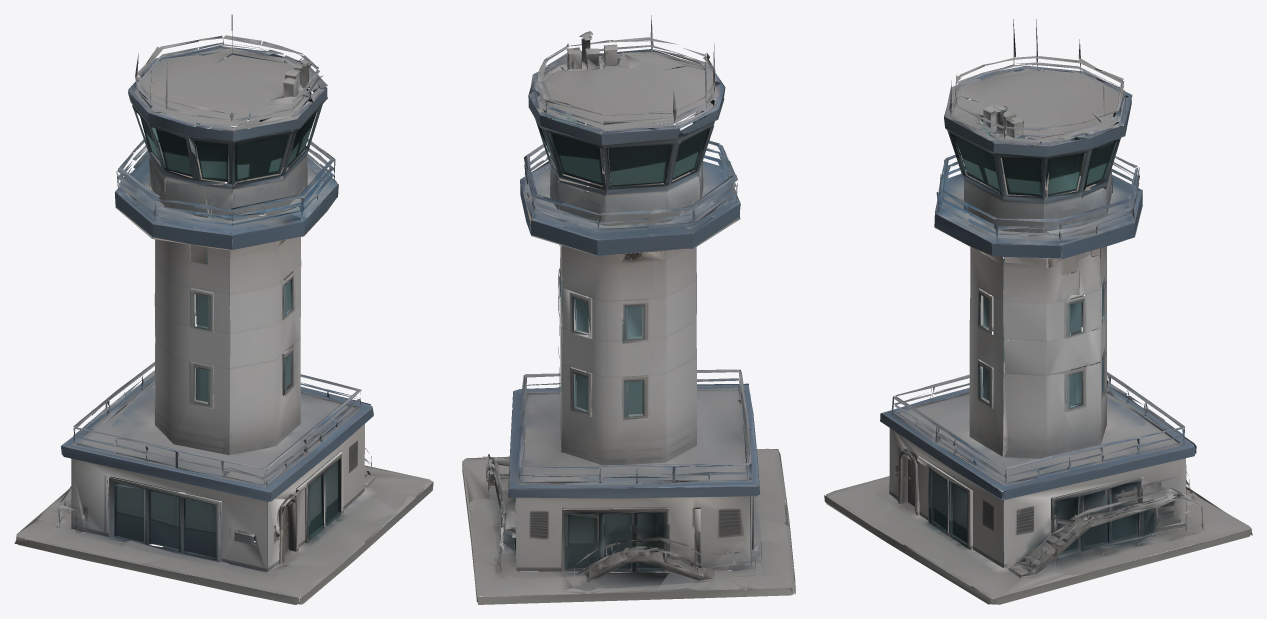
Rendered from air-traffic-control-1.glb.
3 renders of one model, left to right at view 1: azimuth 30°, elevation 25°; view 2: azimuth 150°, elevation 25°; view 3: azimuth 270°, elevation 25°, orthographic. The views are drawn at different scales.
Visible parts, largest first — view 1: node_0; view 2: node_0; view 3: node_0.
Boxes of the visible parts, <box> form: node_0: <box>14,14,433,604</box>; node_0: <box>462,15,795,604</box>; node_0: <box>824,19,1252,604</box>.
Bounding box in the file's own units: 24.8 × 31.17 × 25.67.
Materials: 1 (1 with a texture image).
